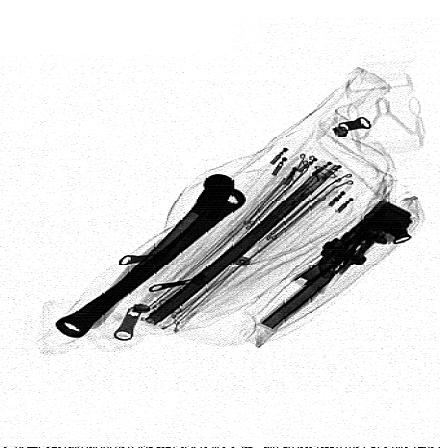Hammer: (72, 173, 233, 331)
Pliers: (253, 199, 418, 333)
Wrench: (52, 186, 247, 339)
